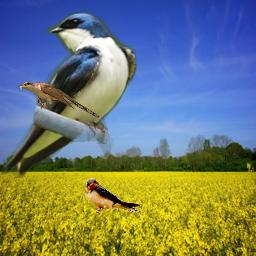Cuckoo: (17, 81, 100, 118)
Swallow: (1, 11, 137, 178), (84, 178, 147, 217)
